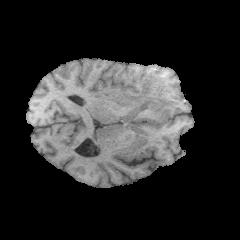glioma: (120, 70, 175, 118)
